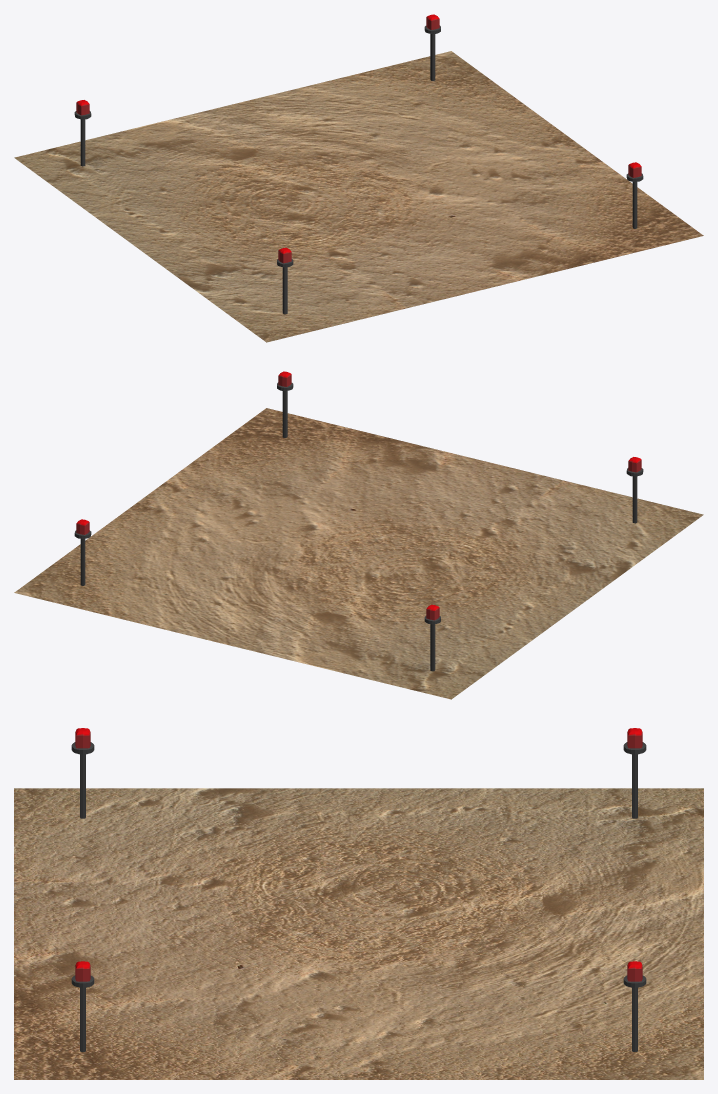
File: SURGIMENTO.glb
The picture shows the model from 3 angles, top to bottom: view 1: azimuth 30°, elevation 25°; view 2: azimuth 150°, elevation 25°; view 3: azimuth 270°, elevation 25°; orthographic projection. The views are drawn at different scales.
Parts seen in each view (by area): view 1: SURGIMENTO_Plano, SURGIMENTO_Cubo_Luz_3, SURGIMENTO_Cubo_Luz, SURGIMENTO_Cubo_Luz_2, SURGIMENTO_Cubo_Luz_4; view 2: SURGIMENTO_Plano, SURGIMENTO_Cubo_Luz, SURGIMENTO_Cubo_Luz_3, SURGIMENTO_Cubo_Luz_4, SURGIMENTO_Cubo_Luz_2; view 3: SURGIMENTO_Plano, SURGIMENTO_Cubo_Luz_2, SURGIMENTO_Cubo_Luz_4, SURGIMENTO_Cubo_Luz, SURGIMENTO_Cubo_Luz_3.
Boxes of the visible parts, bbox=[...] form: SURGIMENTO_Plano: bbox=[14, 51, 703, 342]; SURGIMENTO_Cubo_Luz_3: bbox=[74, 100, 91, 166]; SURGIMENTO_Cubo_Luz: bbox=[277, 247, 293, 314]; SURGIMENTO_Cubo_Luz_2: bbox=[626, 162, 643, 228]; SURGIMENTO_Cubo_Luz_4: bbox=[424, 14, 440, 80]; SURGIMENTO_Plano: bbox=[14, 408, 703, 699]; SURGIMENTO_Cubo_Luz: bbox=[626, 457, 643, 523]; SURGIMENTO_Cubo_Luz_3: bbox=[424, 604, 440, 671]; SURGIMENTO_Cubo_Luz_4: bbox=[74, 519, 91, 585]; SURGIMENTO_Cubo_Luz_2: bbox=[277, 371, 293, 437]; SURGIMENTO_Plano: bbox=[14, 788, 703, 1079]; SURGIMENTO_Cubo_Luz_2: bbox=[71, 961, 94, 1051]; SURGIMENTO_Cubo_Luz_4: bbox=[623, 961, 646, 1051]; SURGIMENTO_Cubo_Luz: bbox=[71, 728, 94, 818]; SURGIMENTO_Cubo_Luz_3: bbox=[623, 728, 646, 818].
Size of the model in its own units: 1 by 0.1446 by 1.
2 materials, 2 textured.
